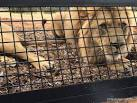lion: (53, 4, 133, 74)
